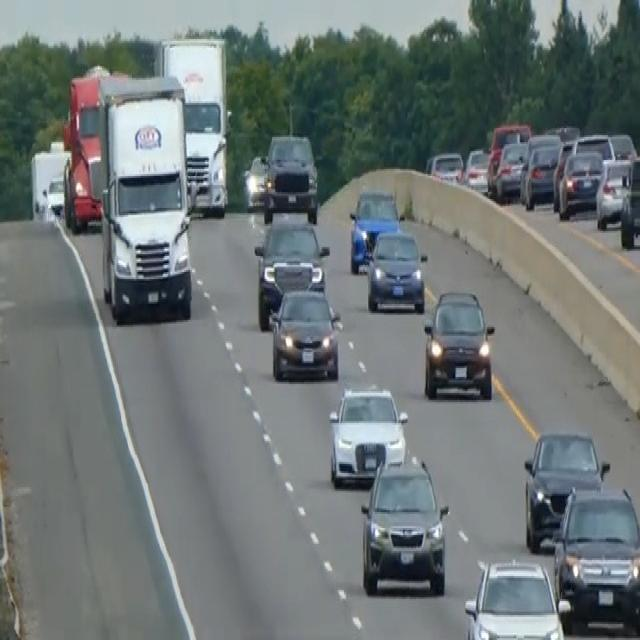car: (552, 482, 639, 631), (359, 454, 449, 596), (522, 427, 609, 553), (253, 213, 329, 327), (463, 556, 566, 638), (327, 384, 408, 487), (422, 286, 495, 400), (268, 284, 343, 380), (365, 226, 427, 313), (262, 130, 318, 222), (348, 186, 400, 274), (557, 148, 603, 218), (519, 135, 561, 210), (595, 155, 631, 229), (492, 139, 528, 201), (619, 151, 639, 249), (551, 137, 577, 210), (572, 130, 615, 165), (243, 153, 269, 210), (425, 149, 464, 183), (463, 146, 490, 192), (609, 130, 637, 162), (45, 174, 65, 215)
lorry: (94, 73, 193, 323)
